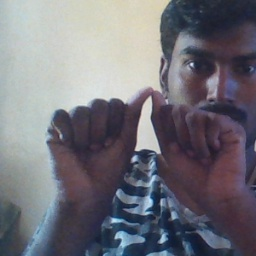A: (75, 85, 224, 195)
